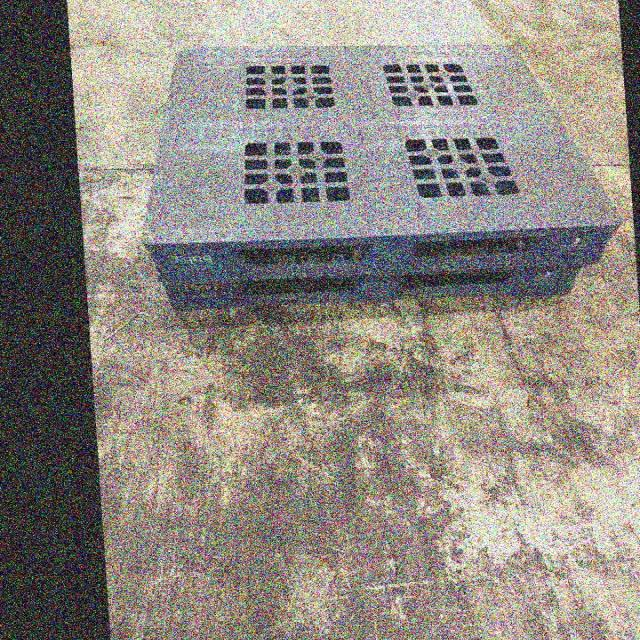non-igps: (133, 37, 629, 317)
